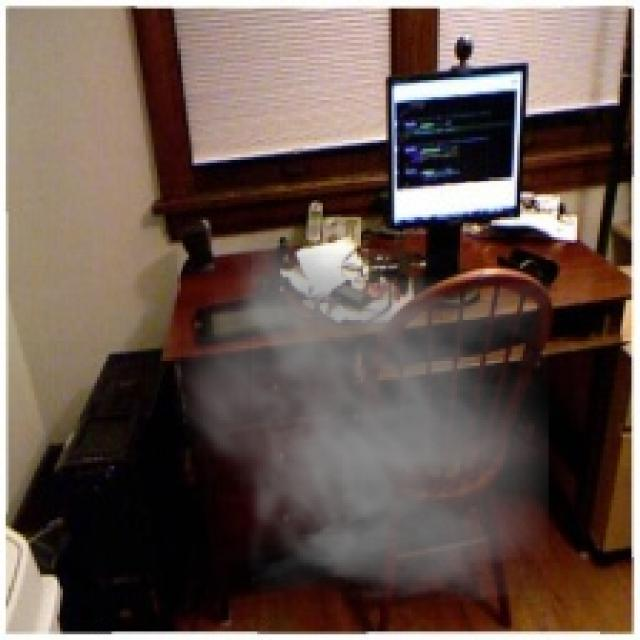smoke: (166, 243, 548, 603)
